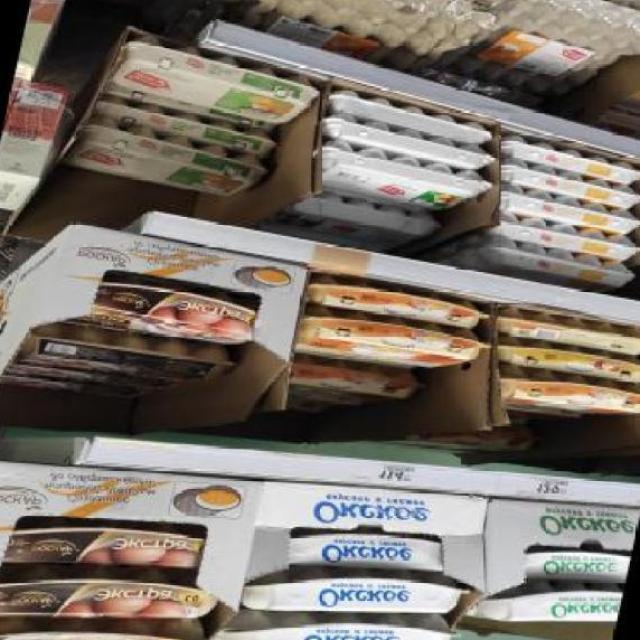Egg: (108, 35, 329, 125), (0, 552, 223, 633), (59, 119, 277, 200), (49, 274, 277, 348), (237, 562, 473, 624), (0, 511, 207, 576), (295, 310, 493, 370), (304, 274, 492, 329), (209, 606, 464, 640), (465, 575, 623, 628), (0, 602, 214, 640), (277, 529, 446, 573), (497, 367, 640, 418), (282, 358, 429, 404), (493, 338, 640, 384), (524, 544, 631, 589)
